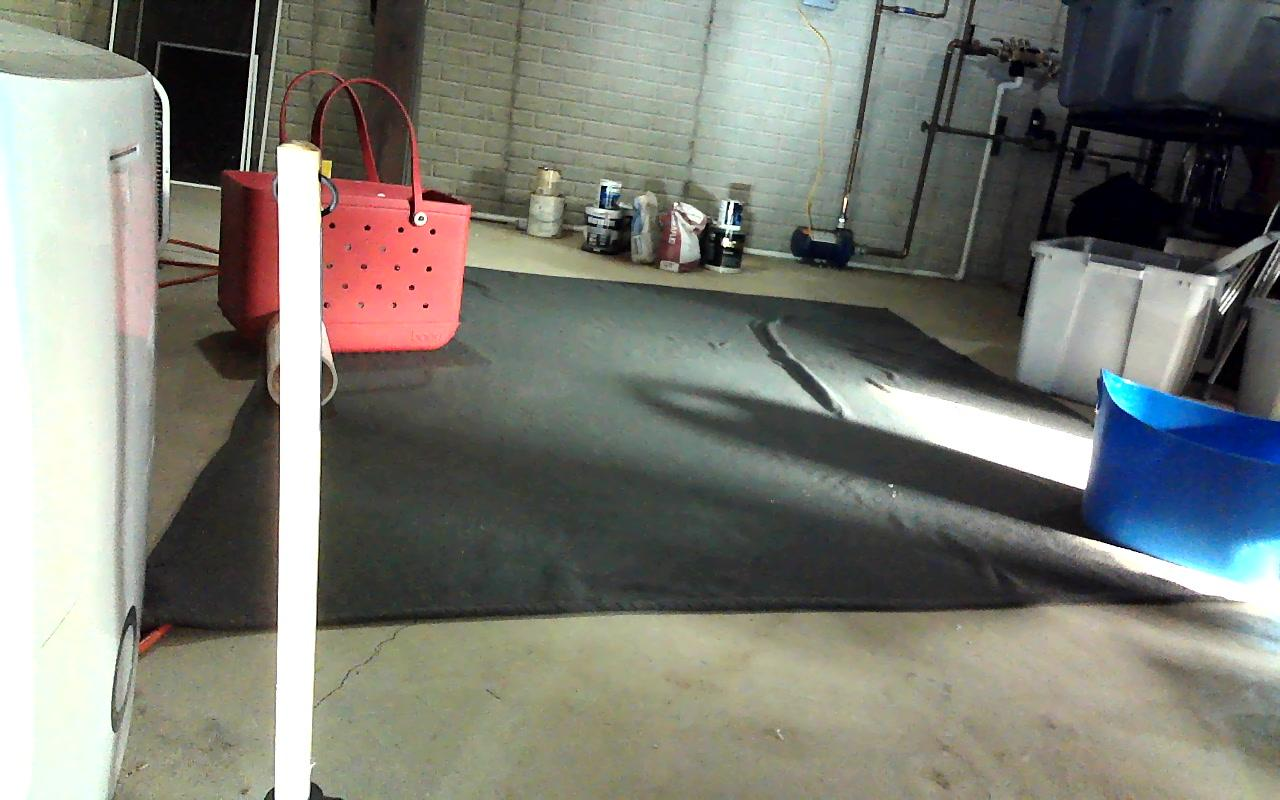coral: (267, 310, 336, 405)
